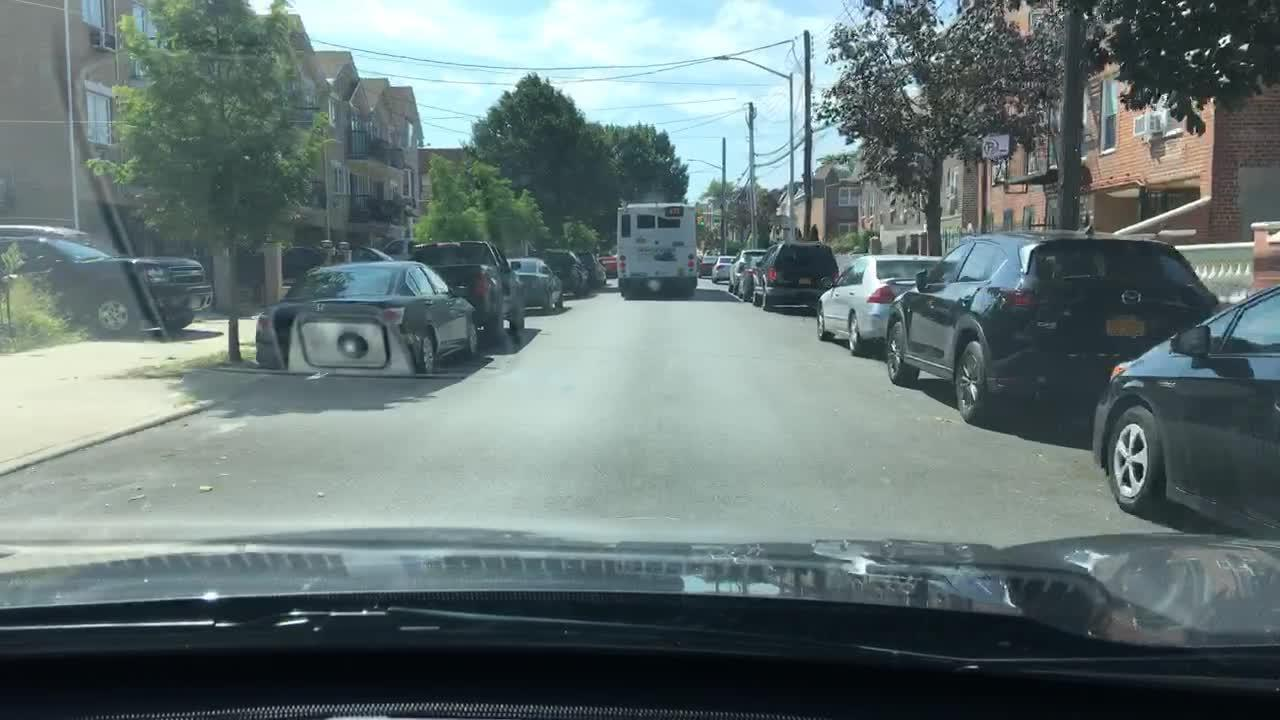Honda: (315, 300, 327, 313)
Mazda: (1118, 288, 1144, 307)
